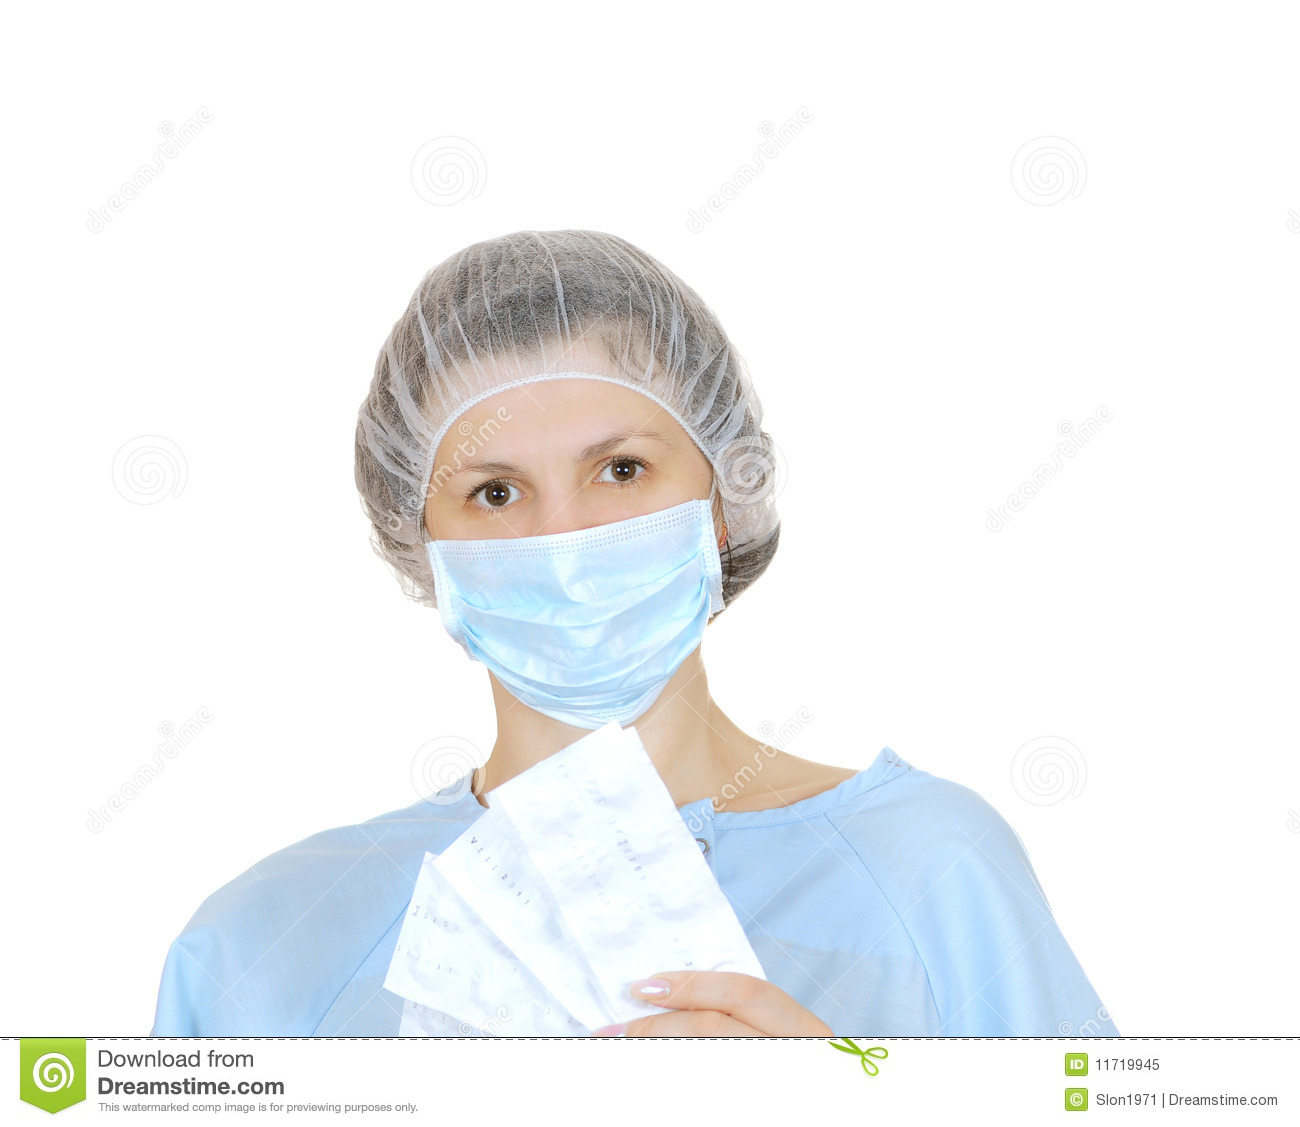mask: (429, 510, 723, 729)
